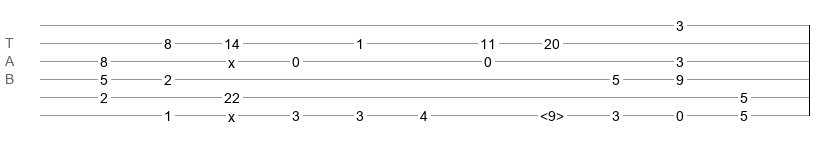0: (292, 54, 300, 64), (484, 54, 492, 64), (676, 108, 684, 118)
1: (164, 108, 172, 118), (356, 36, 364, 46)
11: (480, 36, 496, 46)
14: (224, 36, 240, 46)
2: (100, 90, 108, 100), (164, 72, 172, 82)
20: (544, 36, 560, 46)
22: (224, 90, 240, 100)
3: (292, 108, 300, 118), (356, 108, 364, 118), (612, 108, 620, 118), (676, 54, 684, 64), (676, 18, 684, 28)
4: (420, 108, 428, 118)
5: (100, 72, 108, 82), (612, 72, 620, 82), (740, 90, 748, 100), (740, 108, 748, 118)
8: (100, 54, 108, 64), (164, 36, 172, 46)
9: (676, 72, 684, 82)
harmonic: (540, 108, 564, 118)
x: (228, 55, 235, 63), (228, 109, 235, 117)
